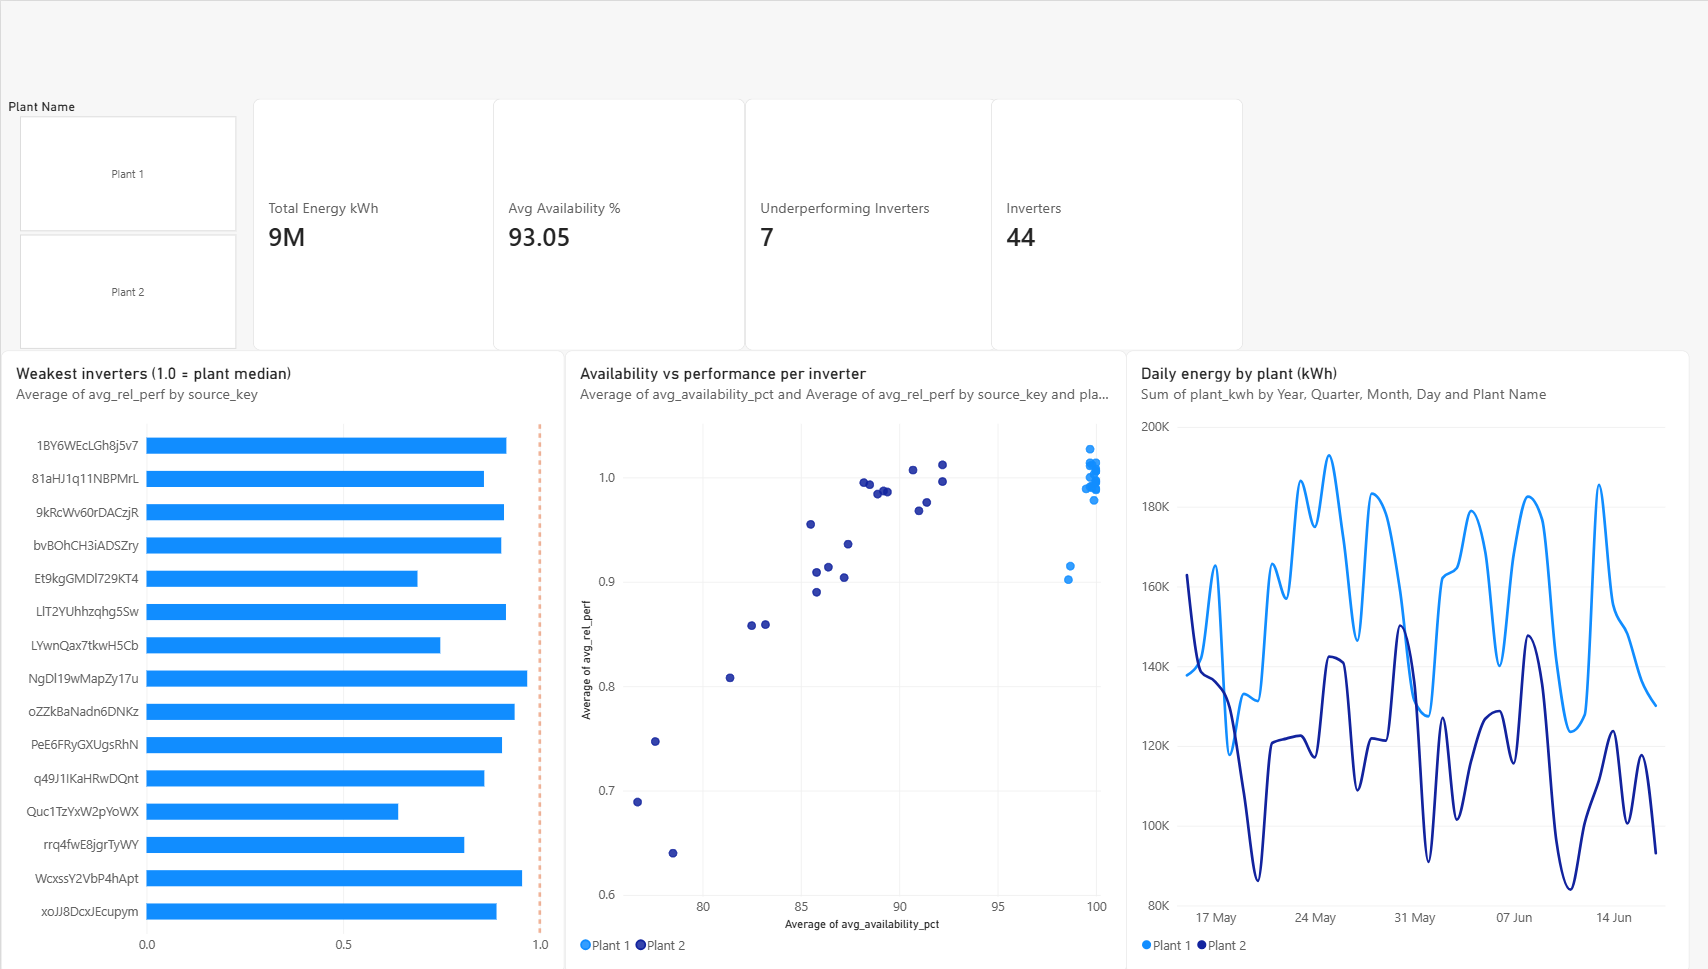

Layout of this report page (visuals, bound fields, positions):
{"tool":"powerbi","page":{"name":"Solar Plants","canvas":[1920,1080],"ordinal":0},"visuals":[{"type":"slicer","fields":{"Values":["Plants.Plant Name"]},"box":[0,108,280,280],"z":0},{"type":"cardVisual","fields":{"Data":["plant_daily.Total Energy kWh"]},"box":[280,108,280,280],"z":1000},{"type":"cardVisual","fields":{"Data":["inverter_scorecard.Avg Availability %"]},"box":[546,108,280,280],"z":2000},{"type":"cardVisual","fields":{"Data":["inverter_scorecard.Underperforming Inverters"]},"box":[826,108,280,280],"z":3000},{"type":"cardVisual","fields":{"Data":["inverter_scorecard.Inverters"]},"box":[1100,108,280,280],"z":4000},{"type":"clusteredBarChart","title":"Weakest inverters (1.0 = plant median)","fields":{"Category":["inverter_scorecard.source_key"],"Y":["Avg(inverter_scorecard.avg_rel_perf)"]},"box":[0,388,626,692],"z":5000},{"type":"scatterChart","title":"Availability vs performance per inverter","fields":{"Category":["inverter_scorecard.source_key"],"Series":["inverter_scorecard.plant_name"],"X":["Avg(inverter_scorecard.avg_availability_pct)"],"Y":["Avg(inverter_scorecard.avg_rel_perf)"]},"box":[626,388,624,692],"z":5001},{"type":"lineChart","title":"Daily energy by plant (kWh)","fields":{"Category":["plant_daily.date_key.Variation.Date Hierarchy.Year","plant_daily.date_key.Variation.Date Hierarchy.Quarter","plant_daily.date_key.Variation.Date Hierarchy.Month","plant_daily.date_key.Variation.Date Hierarchy.Day"],"Series":["Plants.Plant Name"],"Y":["Sum(plant_daily.plant_kwh)"]},"box":[1250,388,626,692],"z":5002},{"type":"textbox","box":[1380,108,496,280],"z":5003}]}

Visuals, with their boxes in screenshot pixels (x1, y1, x2, y2), scaled from the page's 1920x1080 canvas onto the 1708x969 screenshot:
slicer - Plants.Plant Name: 0/97/249/348
cardVisual - plant_daily.Total Energy kWh: 249/97/498/348
cardVisual - inverter_scorecard.Avg Availability %: 486/97/735/348
cardVisual - inverter_scorecard.Underperforming Inverters: 735/97/984/348
cardVisual - inverter_scorecard.Inverters: 979/97/1228/348
"Weakest inverters (1.0 = plant median)" clusteredBarChart: 0/348/557/968
"Availability vs performance per inverter" scatterChart: 557/348/1112/968
"Daily energy by plant (kWh)" lineChart: 1112/348/1669/968
textbox: 1228/97/1669/348
